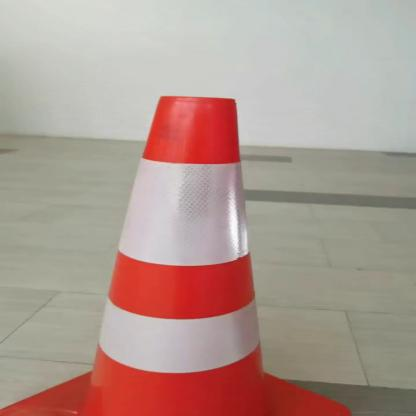cone: (0, 87, 365, 416)
